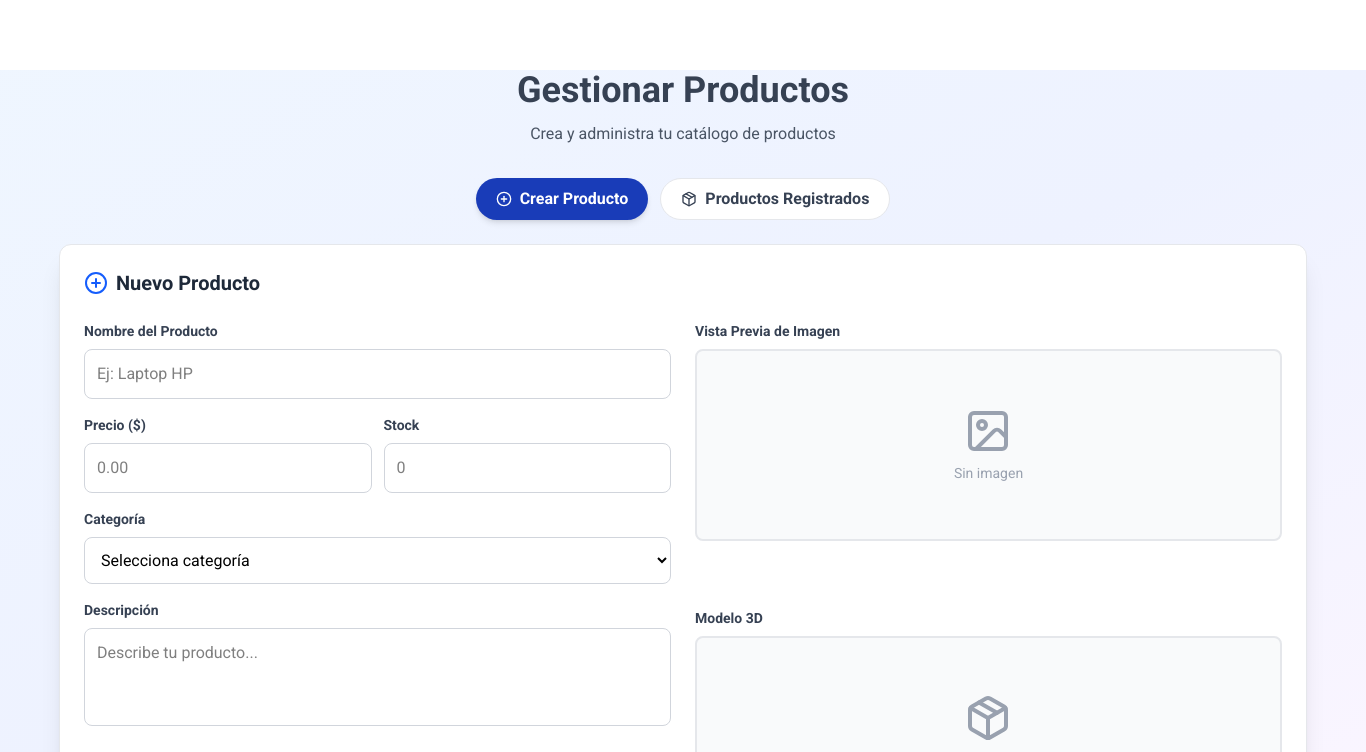
Test: Crear Producto - Vendedor › Crea un producto y actualiza la lista de productos
// fill form
Type "NuevoProd" into the field with placeholder "Ej: Laptop HP" at (378, 374), box [84,349,671,399]
Type "10" into the number field with placeholder "0.00" at (228, 468), box [84,443,372,493]
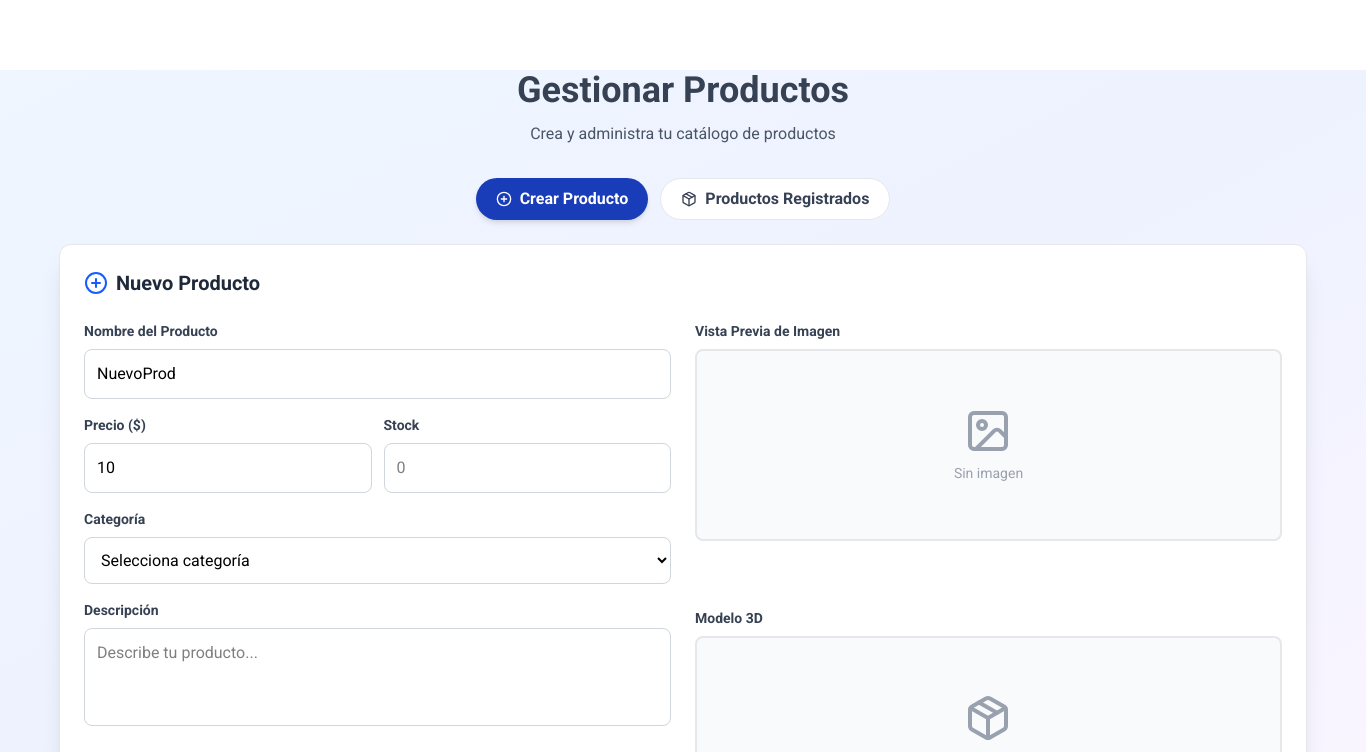
Type "1" into the number field with placeholder "0" at (527, 468), box [384,443,671,493]
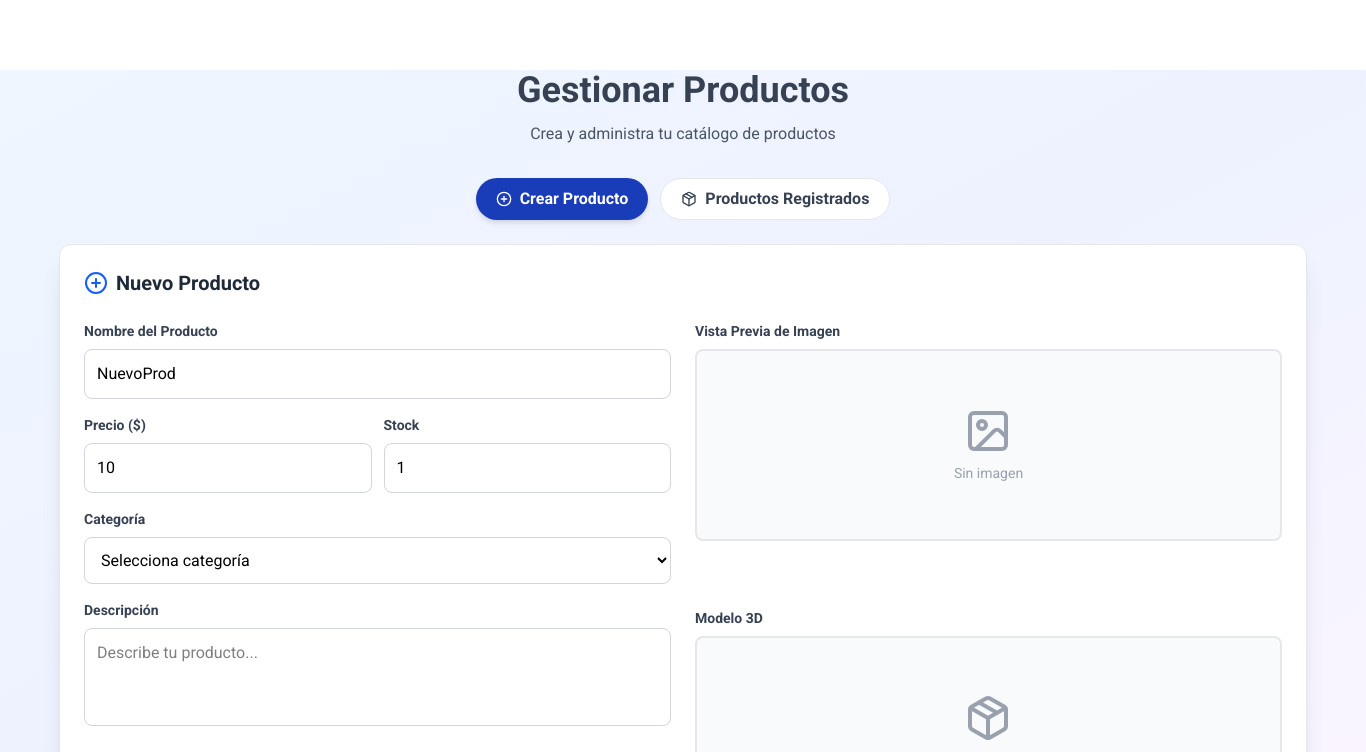
Type "Desc" into the text box with placeholder "Describe tu producto..." at (378, 677), box [84,628,671,726]
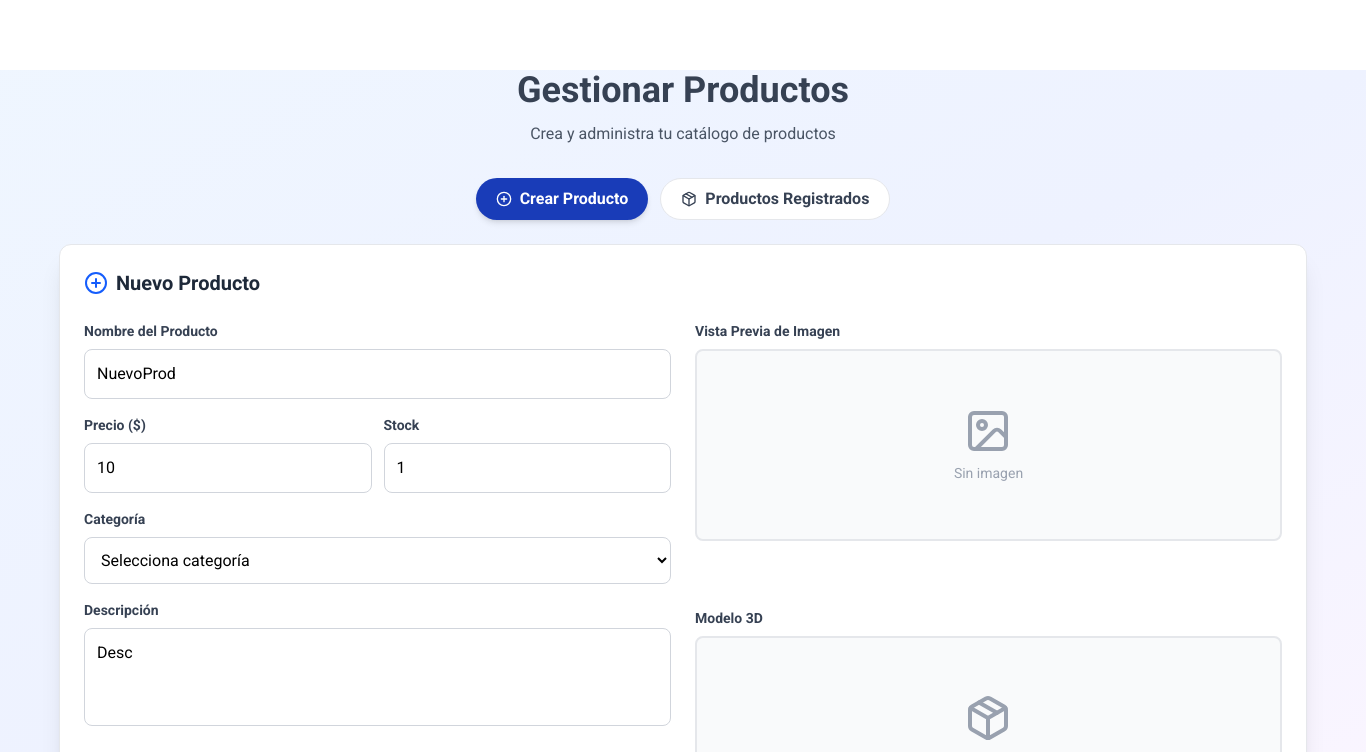
// select category
Select "X" in the dropdown named "categoria" at (378, 560), box [84,537,671,584]
(page scrolled)
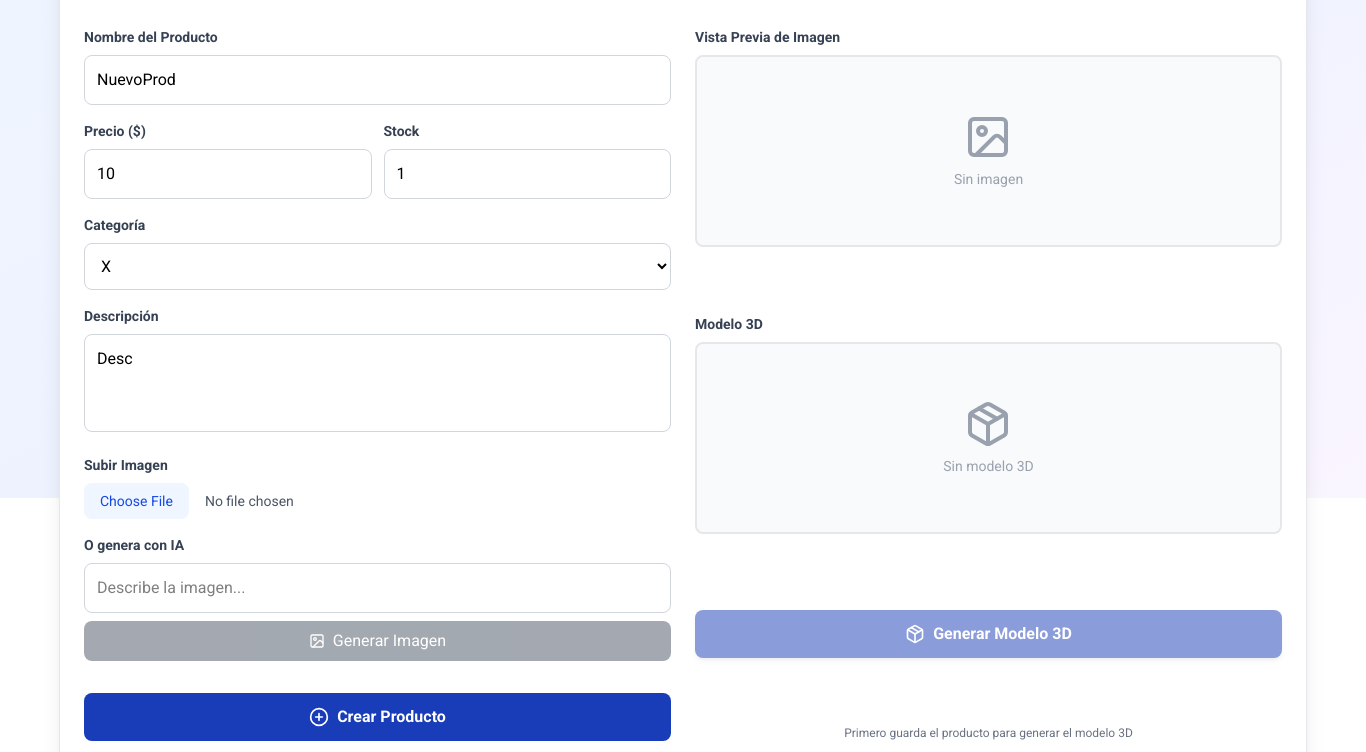
// click create inside Nuevo Producto
Click the button "Crear Producto" at (378, 717), box [84,693,671,741]
(page scrolled)
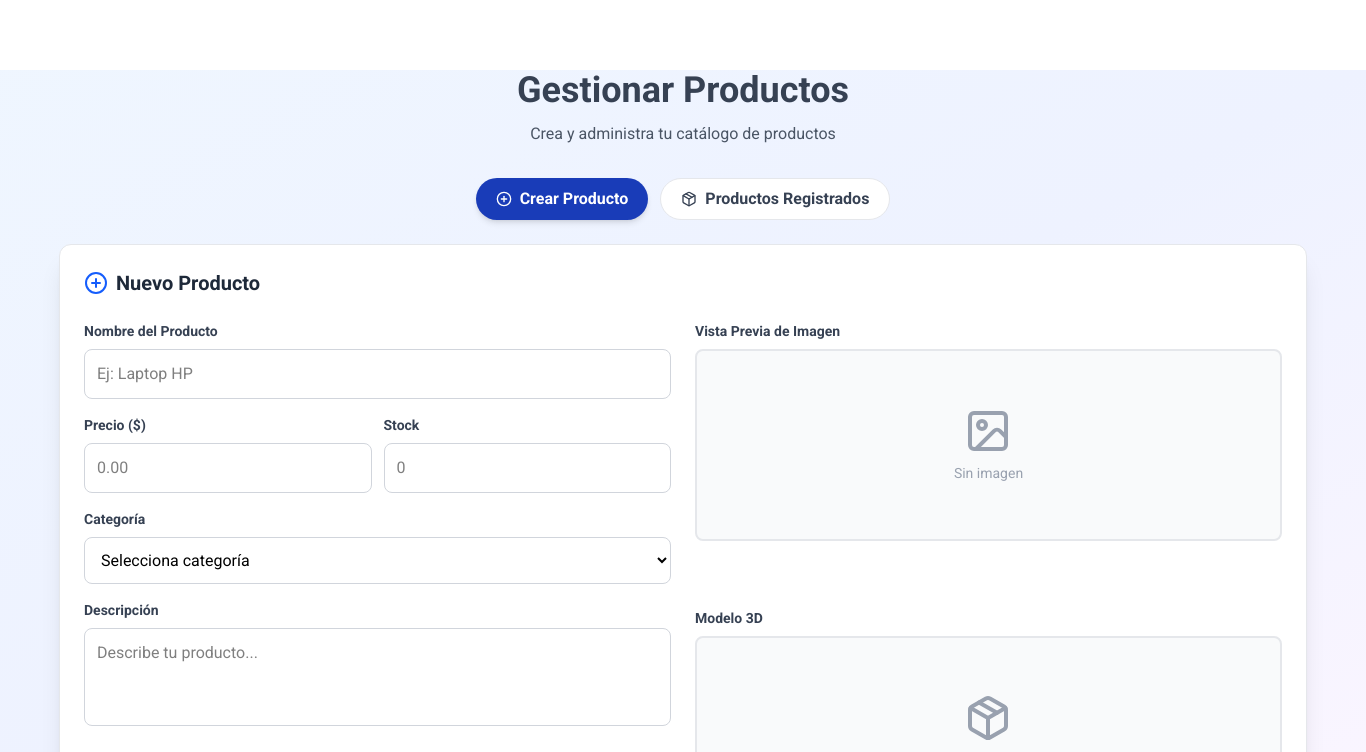
Click the button "Productos Registrados" at (775, 199), box [660,178,890,220]
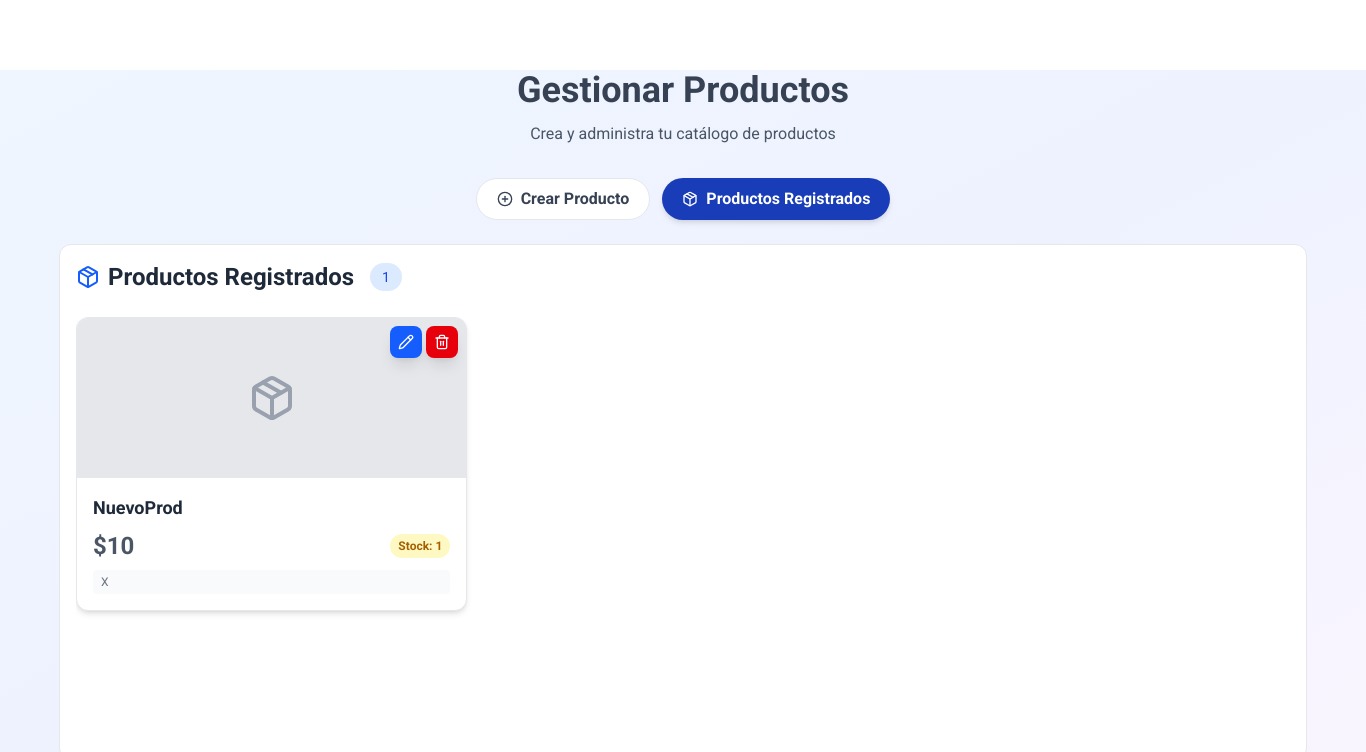
Expected: the button "NuevoProd" is shown, [93,494,450,522]
